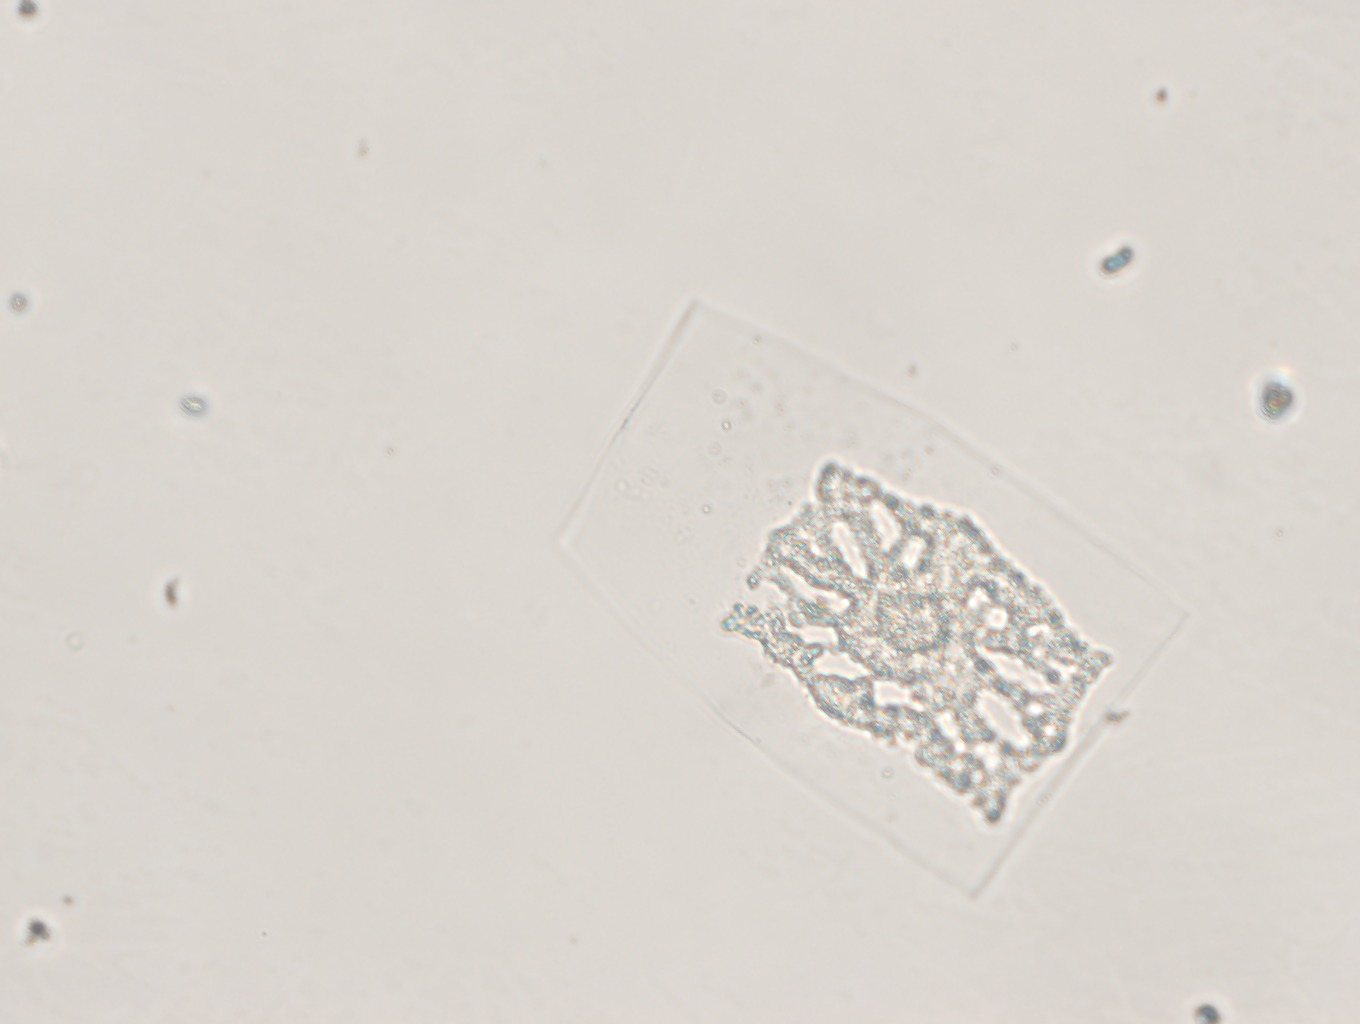helicotheca: (533, 287, 1203, 906)
